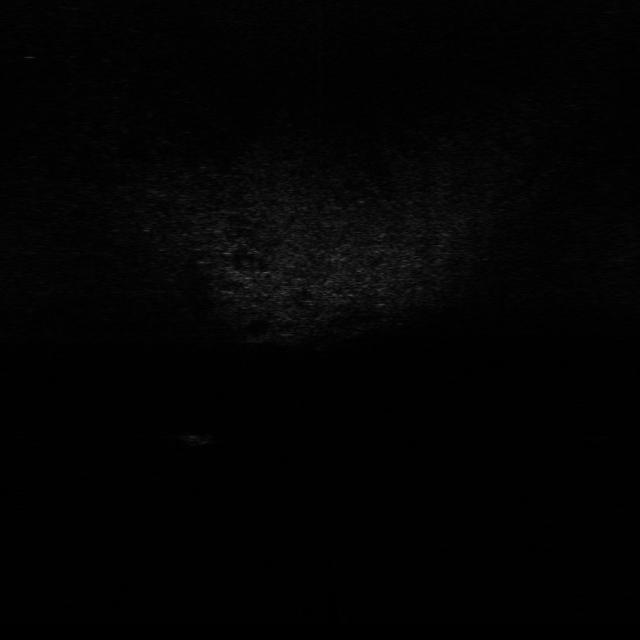cube: (180, 424, 216, 448)
